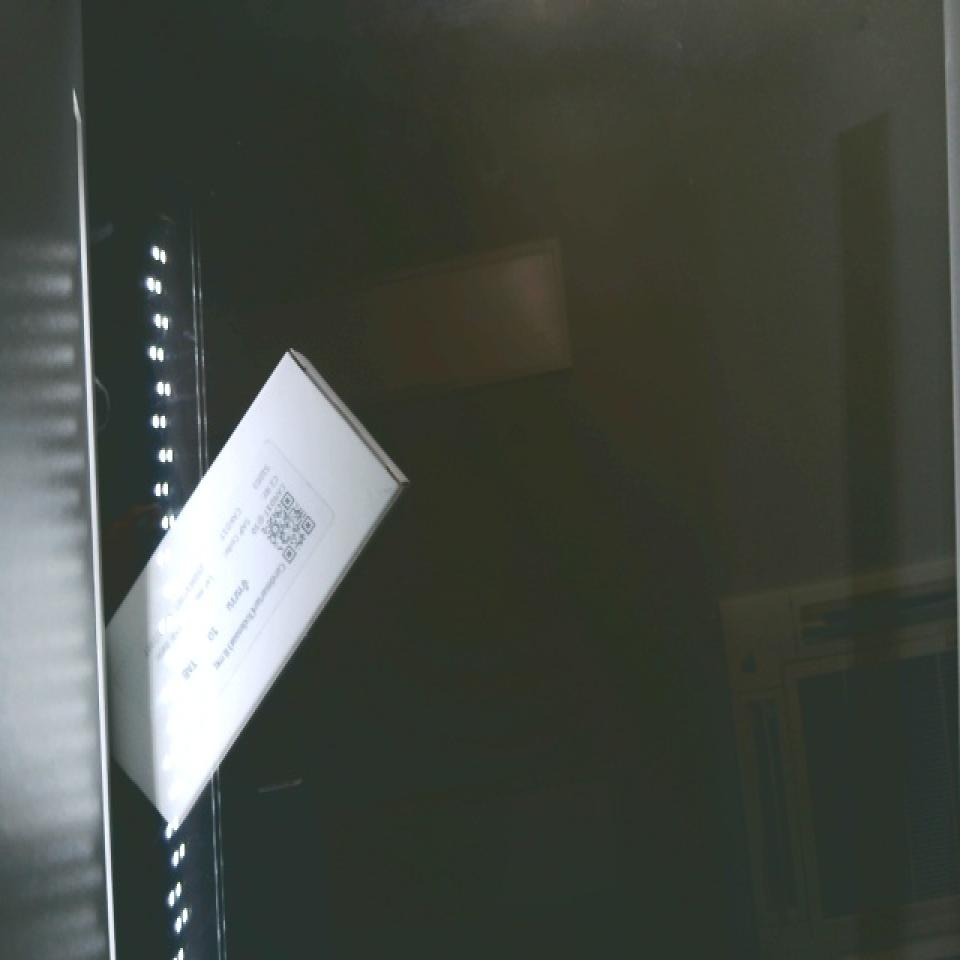medicine_box: (36, 353, 427, 828)
qr_code: (232, 462, 349, 586)
